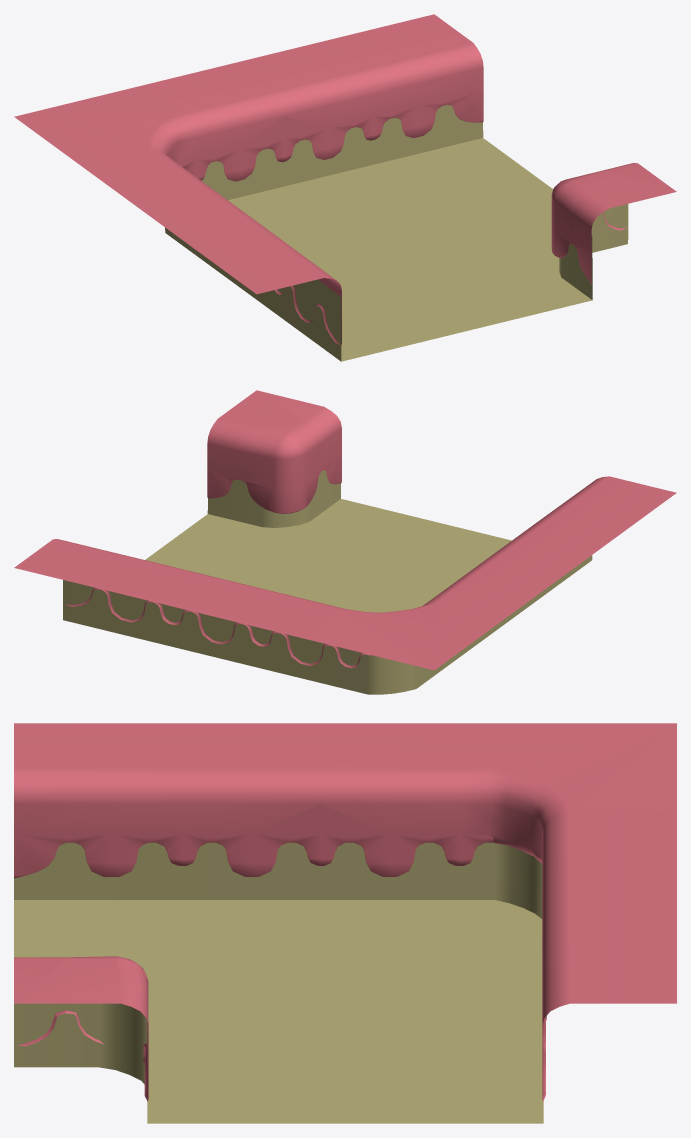
The model's file is SM_Tile_Bend.fbx.
3 renders of one model, top to bottom at view 1: azimuth 30°, elevation 25°; view 2: azimuth 150°, elevation 25°; view 3: azimuth 270°, elevation 25°, orthographic. The views are drawn at different scales.
Visible parts, largest first — view 1: SM_Tile_Bend; view 2: SM_Tile_Bend; view 3: SM_Tile_Bend.
Boxes of the visible parts, x1=… form: SM_Tile_Bend: x1=14, y1=14, x2=676, y2=361; SM_Tile_Bend: x1=14, y1=390, x2=676, y2=694; SM_Tile_Bend: x1=14, y1=723, x2=676, y2=1123.
Size of the model in its own units: 100 by 20 by 100.
